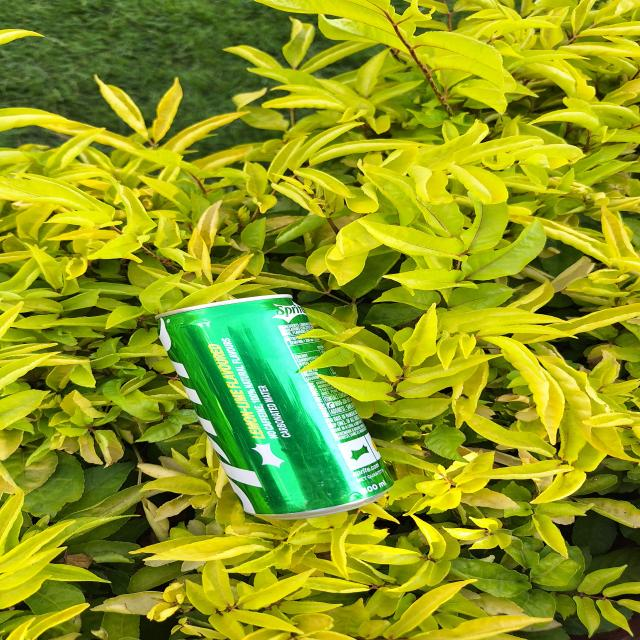Sprite: (165, 295, 387, 514)
